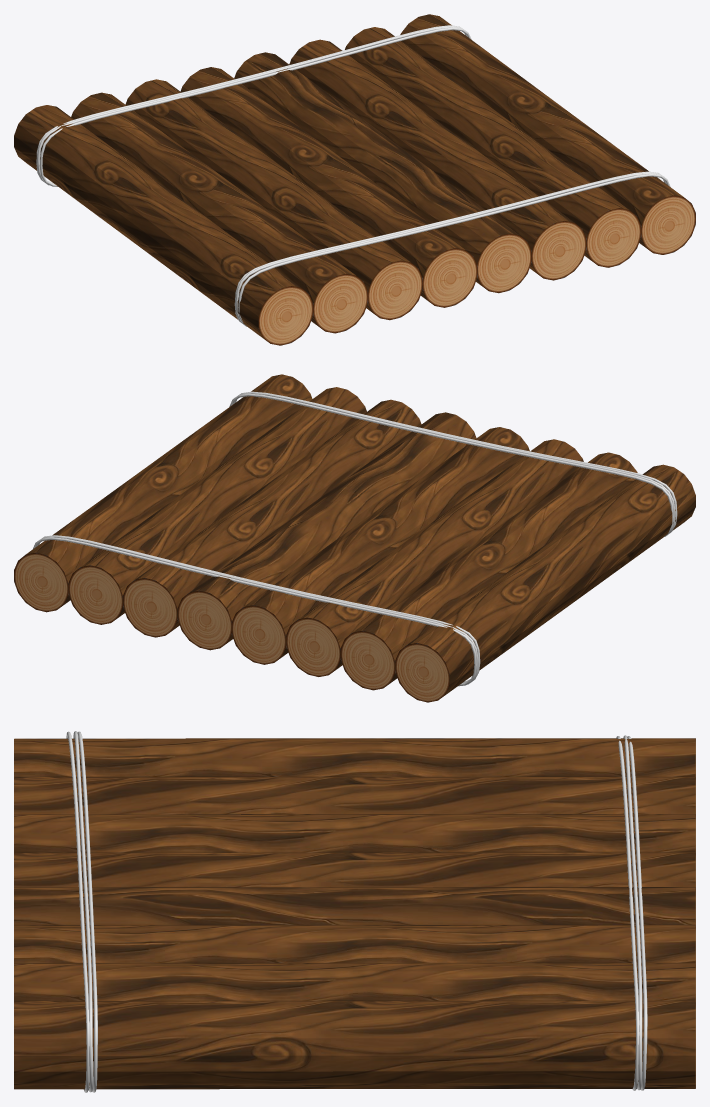
File: WoodenPlatform.fbx
3 views of the same model, one above another, from view 1: azimuth 30°, elevation 25°; view 2: azimuth 150°, elevation 25°; view 3: azimuth 270°, elevation 25° (orthographic). The views are drawn at different scales.
Parts seen in each view (by area): view 1: Cylinder, Cylinder.004, Cylinder.002, Cylinder.007, Cylinder.005, Cylinder.006, Cylinder.003, Cylinder.001, BezierCurve.005, BezierCurve.002, BezierCurve.004, BezierCurve.001 (+2 smaller); view 2: Cylinder, Cylinder.004, Cylinder.002, Cylinder.007, Cylinder.005, Cylinder.006, Cylinder.003, Cylinder.001, BezierCurve.003, BezierCurve, BezierCurve.004, BezierCurve.001 (+2 smaller); view 3: Cylinder.007, Cylinder, Cylinder.002, Cylinder.004, Cylinder.005, Cylinder.006, Cylinder.001, Cylinder.003, BezierCurve.004, BezierCurve.003, BezierCurve.005, BezierCurve (+2 smaller).
Boxes of the visible parts, box(x1,y1,x2,y2) form: Cylinder: box(14, 105, 313, 345); Cylinder.004: box(234, 52, 531, 293); Cylinder.002: box(125, 79, 422, 320); Cylinder.007: box(400, 14, 695, 254); Cylinder.005: box(289, 39, 586, 280); Cylinder.006: box(345, 27, 641, 267); Cylinder.003: box(180, 67, 477, 307); Cylinder.001: box(71, 92, 367, 333); BezierCurve.005: box(238, 174, 670, 325); BezierCurve.002: box(39, 27, 471, 186); BezierCurve.004: box(235, 172, 666, 326); BezierCurve.001: box(37, 26, 467, 185); Cylinder: box(395, 464, 695, 702); Cylinder.004: box(177, 412, 476, 650); Cylinder.002: box(286, 439, 583, 676); Cylinder.007: box(14, 374, 312, 612); Cylinder.005: box(123, 399, 421, 637); Cylinder.006: box(68, 387, 366, 624); Cylinder.003: box(231, 427, 529, 664); Cylinder.001: box(340, 452, 637, 690); BezierCurve.003: box(229, 393, 673, 536); BezierCurve: box(33, 537, 476, 686); BezierCurve.004: box(233, 392, 675, 536); BezierCurve.001: box(37, 535, 478, 684); Cylinder.007: box(14, 1000, 695, 1089); Cylinder: box(14, 738, 695, 776); Cylinder.002: box(14, 814, 695, 852); Cylinder.004: box(14, 887, 695, 925); Cylinder.005: box(14, 925, 695, 963); Cylinder.006: box(14, 963, 695, 1001); Cylinder.001: box(14, 777, 695, 814); Cylinder.003: box(14, 852, 695, 887); BezierCurve.004: box(73, 731, 93, 1092); BezierCurve.003: box(77, 731, 97, 1092); BezierCurve.005: box(66, 731, 89, 1092); BezierCurve: box(627, 736, 647, 1090).
Size of the model in its own units: 149 by 21.9 by 143.
